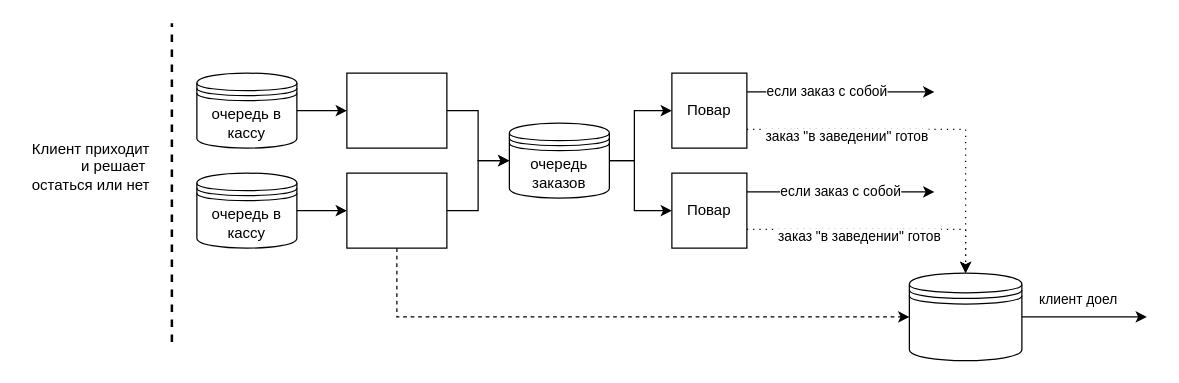
Image size: 1179x383. Some labels were removed from this diagram. The shapes that lost their labels are listed below. From the top down, each one's centre as x and y in pixels, then its label:
At (x=396, y=110): "Касса с собой".
At (x=396, y=210): "Касса в заведении".
At (x=965, y=316): "занятые столики".
